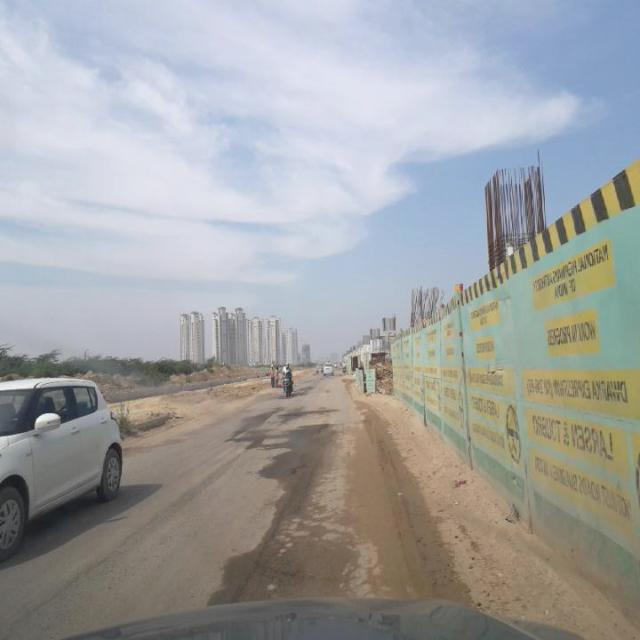crack: (230, 454, 390, 591), (234, 478, 308, 600)
pothole: (282, 458, 320, 480), (308, 419, 346, 441)
